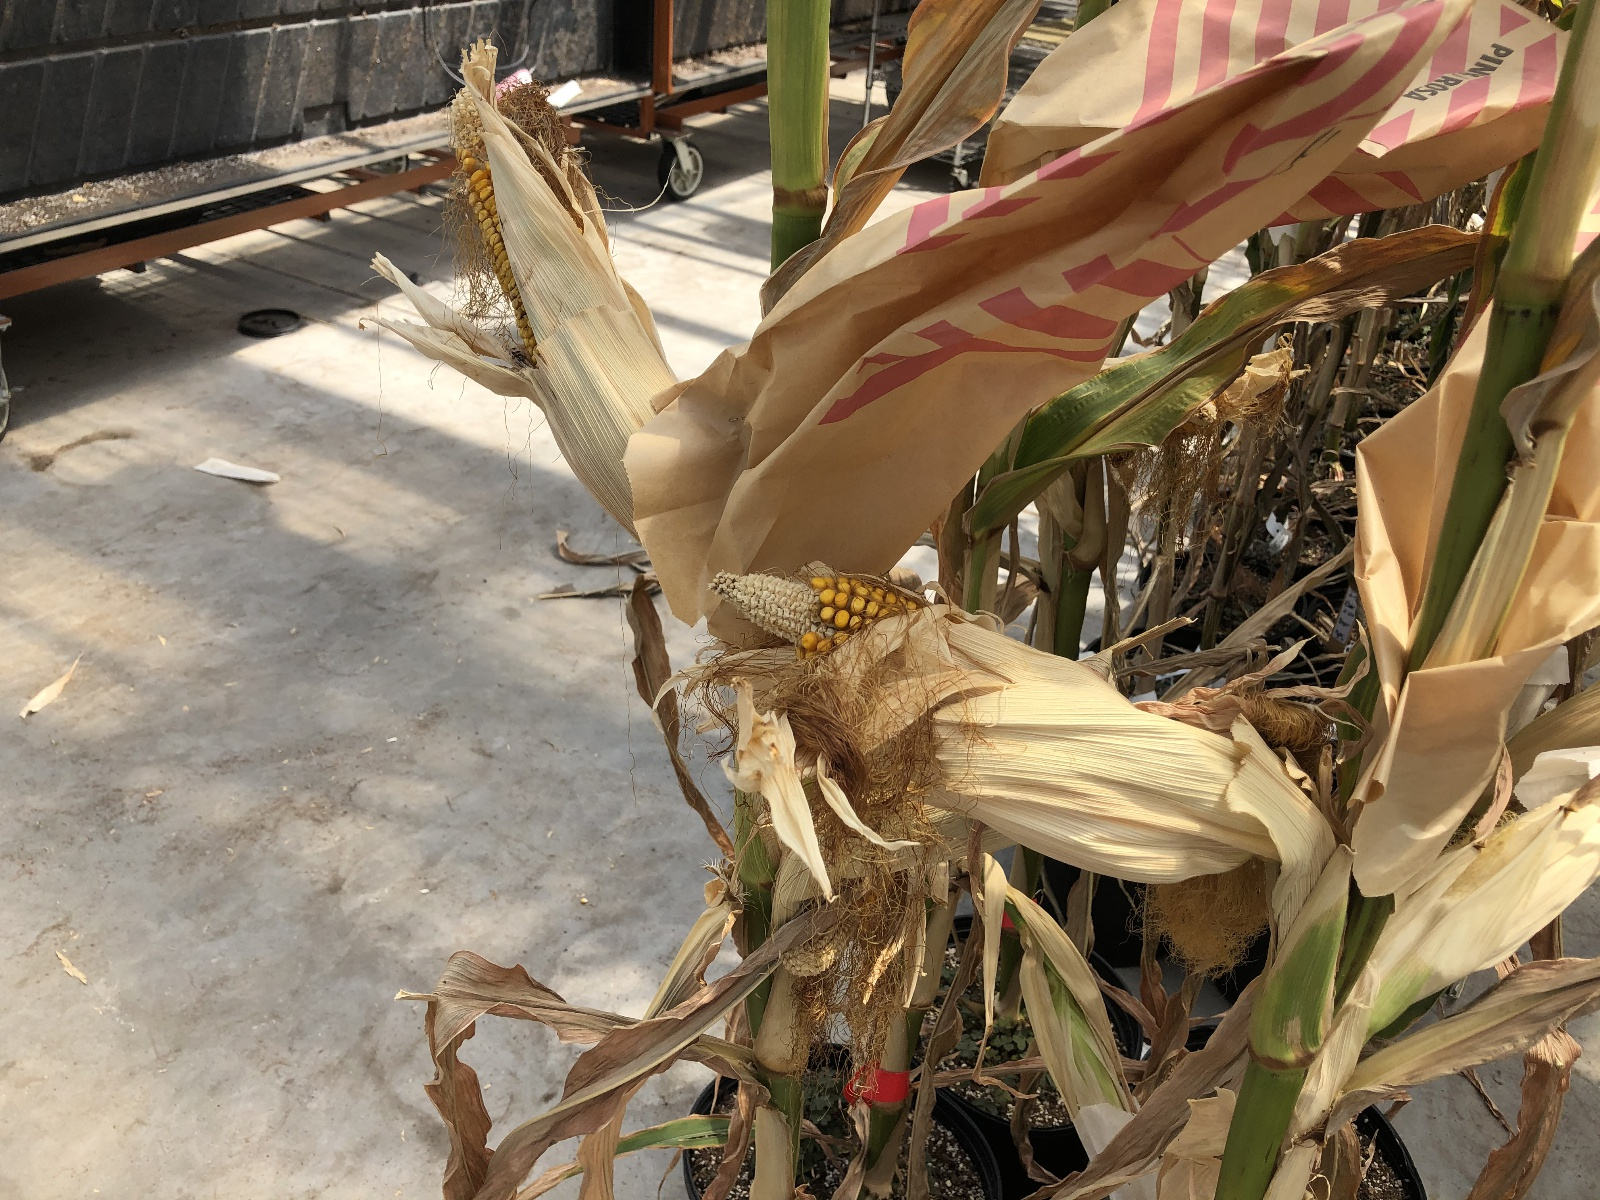ear: (703, 555, 1259, 861), (442, 32, 709, 542)
